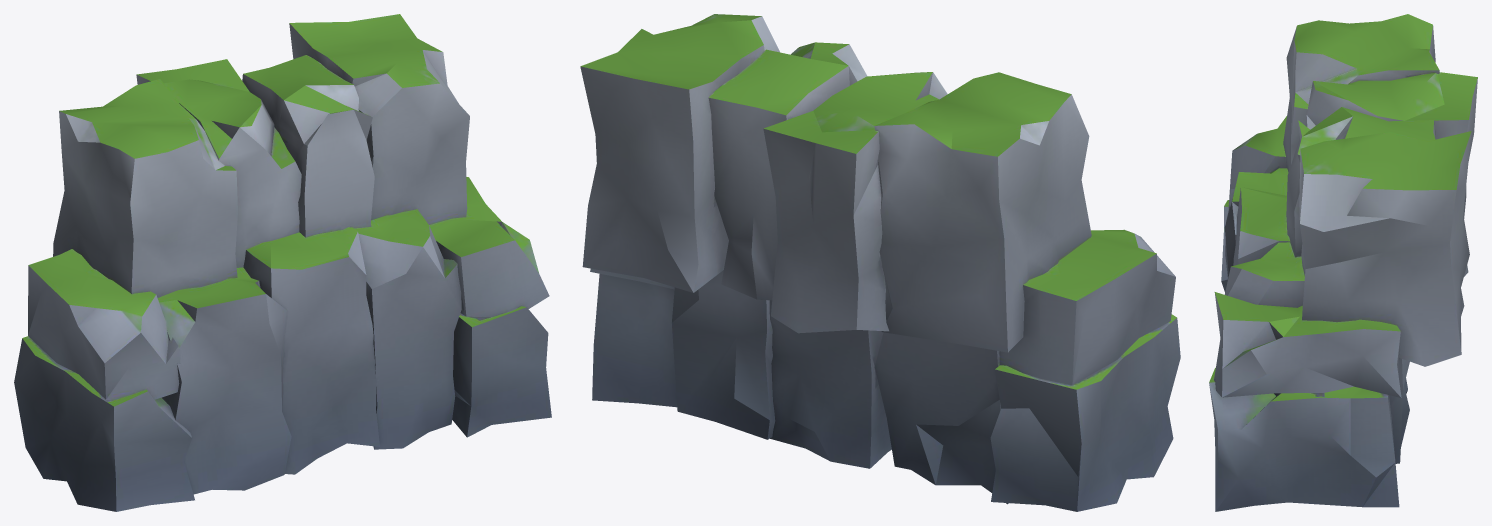
File: genshin_cliff_A.glb
3 renders of one model, left to right at view 1: azimuth 30°, elevation 25°; view 2: azimuth 150°, elevation 25°; view 3: azimuth 270°, elevation 25°, orthographic. The views are drawn at different scales.
Parts seen in each view (by area): view 1: GenshinCliff; view 2: GenshinCliff; view 3: GenshinCliff.
Boxes of the visible parts, x1,y1,x2,y2 form: GenshinCliff: (14,14,551,511); GenshinCliff: (580,14,1180,511); GenshinCliff: (1209,14,1477,511).
Size of the model in its own units: 27.39 by 19.61 by 14.72.
Materials: 1 (1 with a texture image).
